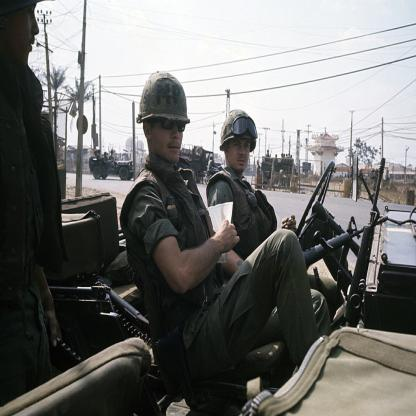Helmet: (134, 70, 192, 130), (216, 110, 258, 153)
